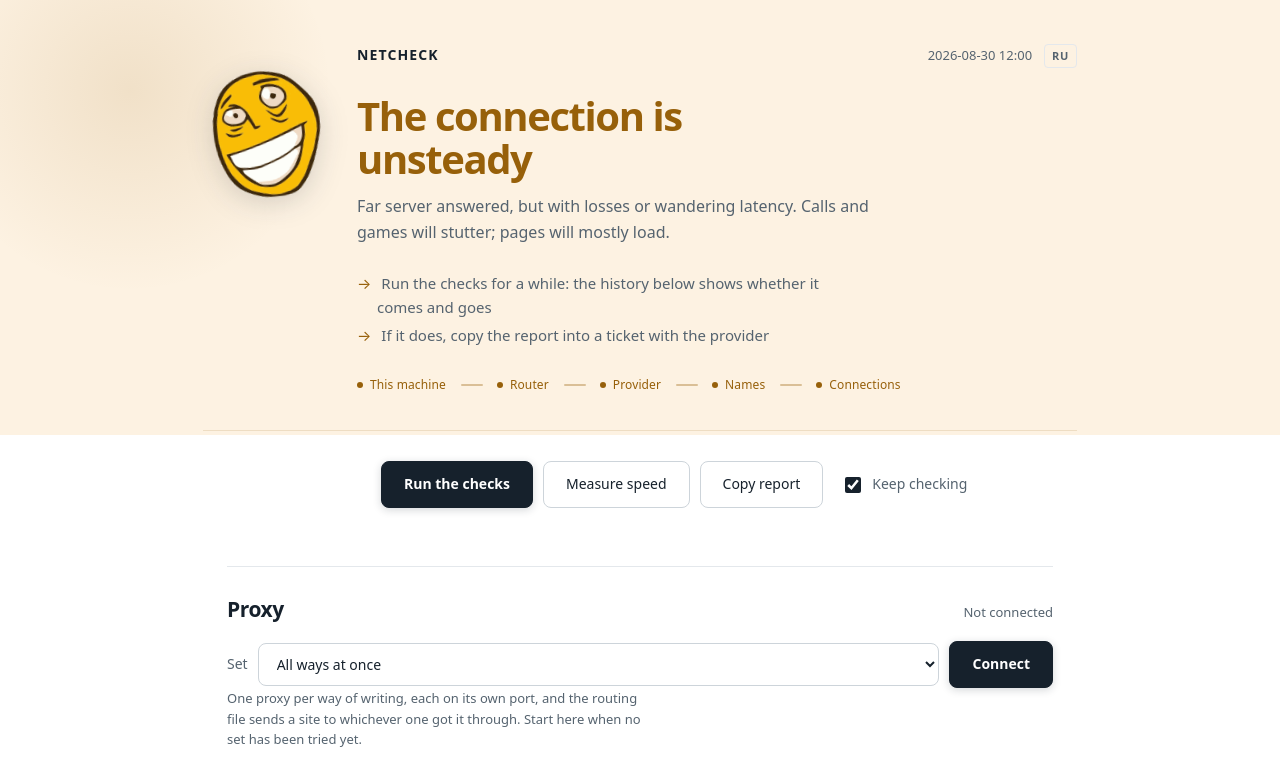
Scenario: the page › explains only the set that is in hand
Expected: the heading "The connection is unsteady" is shown, [357, 88, 682, 186]
Expected: the text "One proxy per way of writing" is shown, [227, 689, 641, 748]
Select "Ten pieces" in the dropdown labelled "Set": {"x": 598, "y": 664} [258, 643, 939, 686]
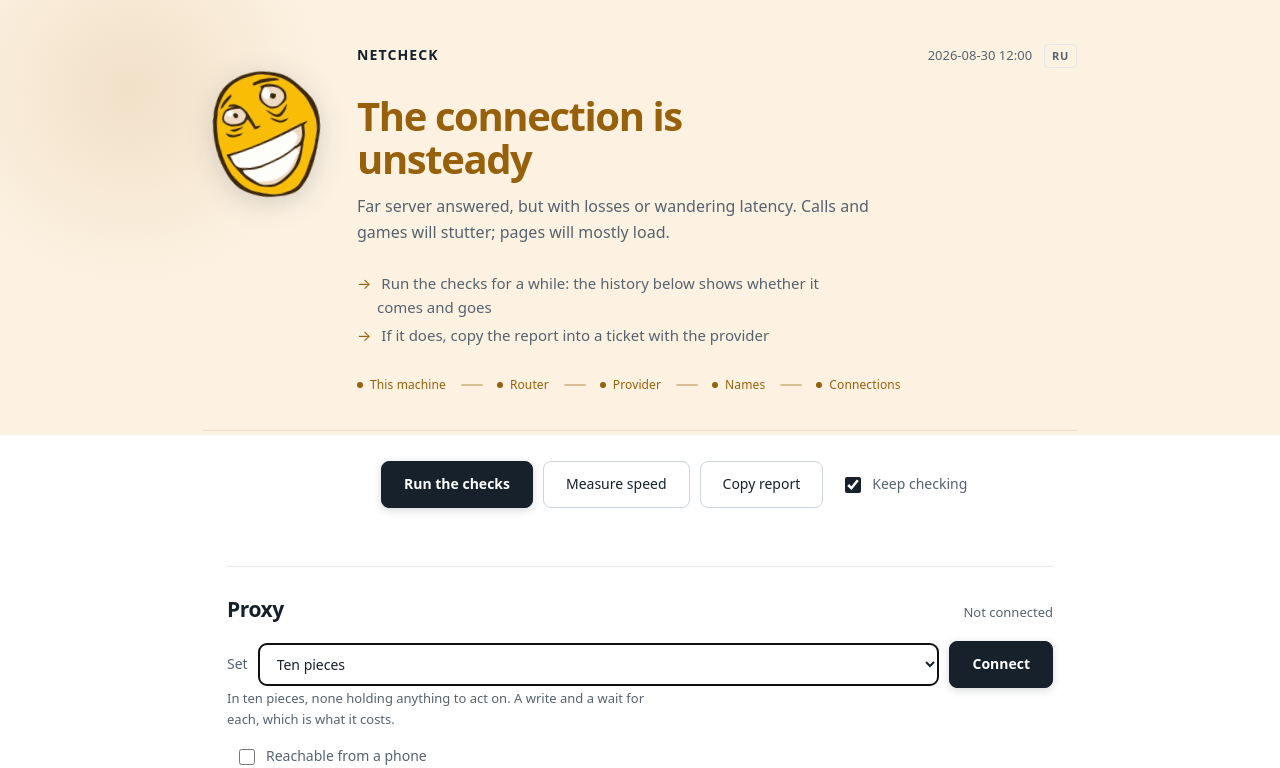
Now the text "One proxy per way of writing" is gone
